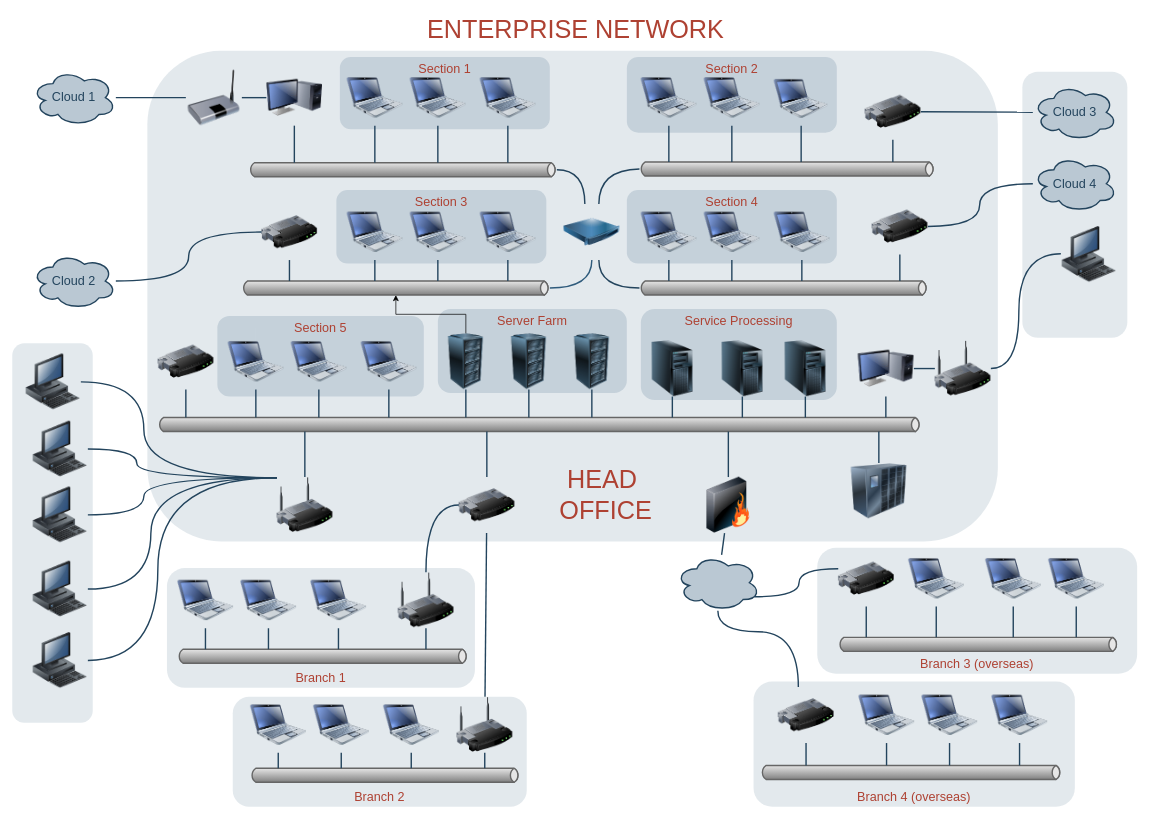
Some shapes in this 1149 by 818 pixel diagram are drawn without their labels. The box of each missing label's shape, as (x1, y1, x2, y2) in pixels:
Consumers: (12, 343, 92, 722)
Internet: (675, 554, 760, 611)
Maintenance: (1022, 71, 1127, 337)
